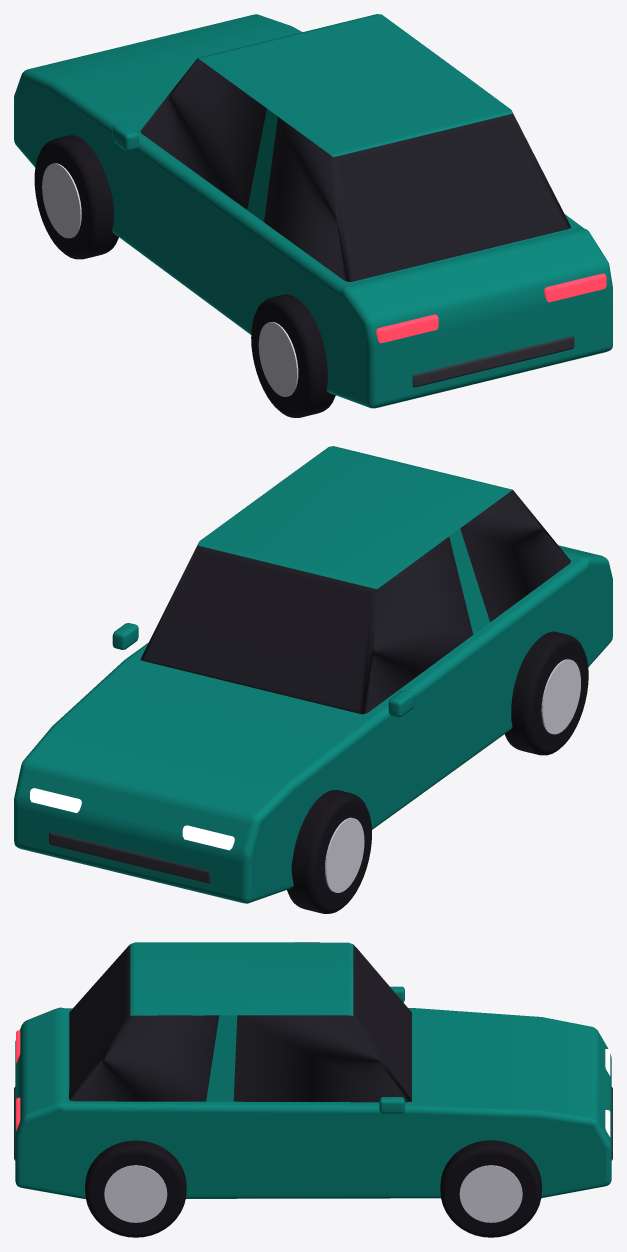
Rendered from car_suv.glb.
The picture shows the model from 3 angles, top to bottom: view 1: azimuth 30°, elevation 25°; view 2: azimuth 150°, elevation 25°; view 3: azimuth 270°, elevation 25°; orthographic projection. The views are drawn at different scales.
Parts seen in each view (by area): view 1: Body, Cabin, W-11Tyre, W-1-1Tyre, W-11Rim, W-1-1Rim, RearStrip, Tail-1, Tail1, Mirror-1; view 2: Body, Cabin, W-11Tyre, W-1-1Tyre, W-1-1Rim, W-11Rim, FrontStrip, Head-1, Head1; view 3: Body, Cabin, W11Tyre, W1-1Tyre, W1-1Rim, W11Rim, Mirror1.
Part boxes in pixels (x1,y1,x2,y2): Body: [14, 14, 612, 408]; Cabin: [140, 14, 570, 281]; W-11Tyre: [34, 135, 118, 259]; W-1-1Tyre: [251, 294, 335, 417]; W-11Rim: [42, 163, 81, 238]; W-1-1Rim: [258, 322, 298, 396]; RearStrip: [412, 336, 574, 387]; Tail-1: [376, 314, 438, 343]; Tail1: [544, 273, 606, 302]; Mirror-1: [112, 124, 138, 150]; Body: [14, 545, 612, 903]; Cabin: [140, 446, 570, 714]; W-11Tyre: [287, 790, 371, 913]; W-1-1Tyre: [504, 631, 588, 755]; W-1-1Rim: [541, 659, 580, 734]; W-11Rim: [325, 817, 364, 892]; FrontStrip: [49, 832, 210, 883]; Head-1: [182, 825, 234, 850]; Head1: [30, 788, 81, 812]; Body: [15, 1007, 611, 1198]; Cabin: [69, 942, 411, 1102]; W11Tyre: [440, 1140, 541, 1237]; W1-1Tyre: [85, 1140, 186, 1237]; W1-1Rim: [104, 1165, 167, 1222]; W11Rim: [459, 1165, 522, 1222]; Mirror1: [379, 1097, 404, 1113].
Bounding box in the file's own units: 2.16 × 1.78 × 4.72.
